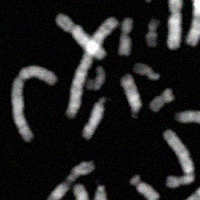chromosome: (65, 17, 116, 119), (11, 65, 55, 140), (55, 13, 107, 58), (162, 127, 195, 187), (45, 160, 94, 200), (175, 0, 200, 48), (81, 97, 105, 138), (120, 73, 141, 115), (183, 152, 200, 200), (129, 174, 158, 200), (166, 0, 181, 50), (149, 86, 173, 113), (172, 109, 200, 132), (118, 17, 134, 54), (84, 65, 105, 92), (132, 61, 159, 80), (59, 183, 87, 200), (145, 18, 159, 47), (94, 184, 115, 200)
